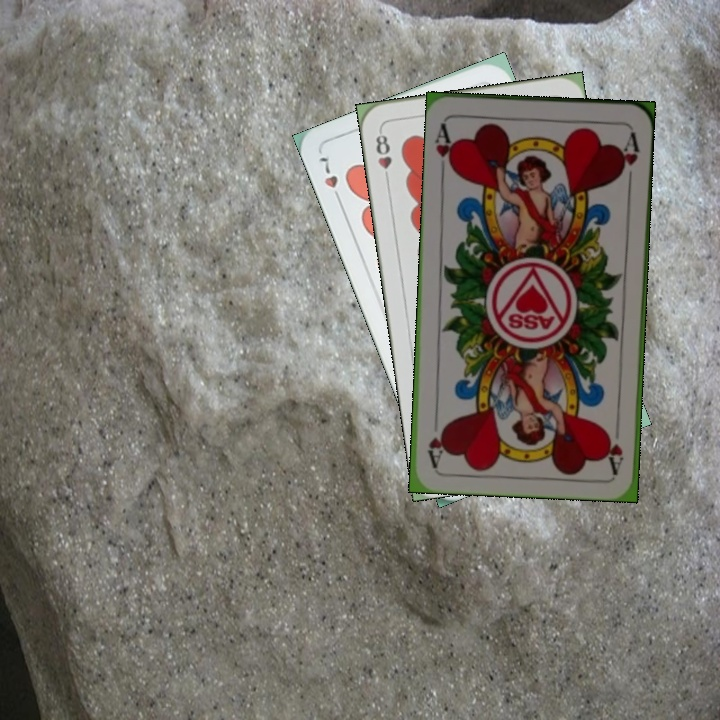H7: (315, 153, 345, 207)
H8: (372, 126, 395, 185)
HA: (431, 119, 458, 177), (604, 428, 627, 475)
